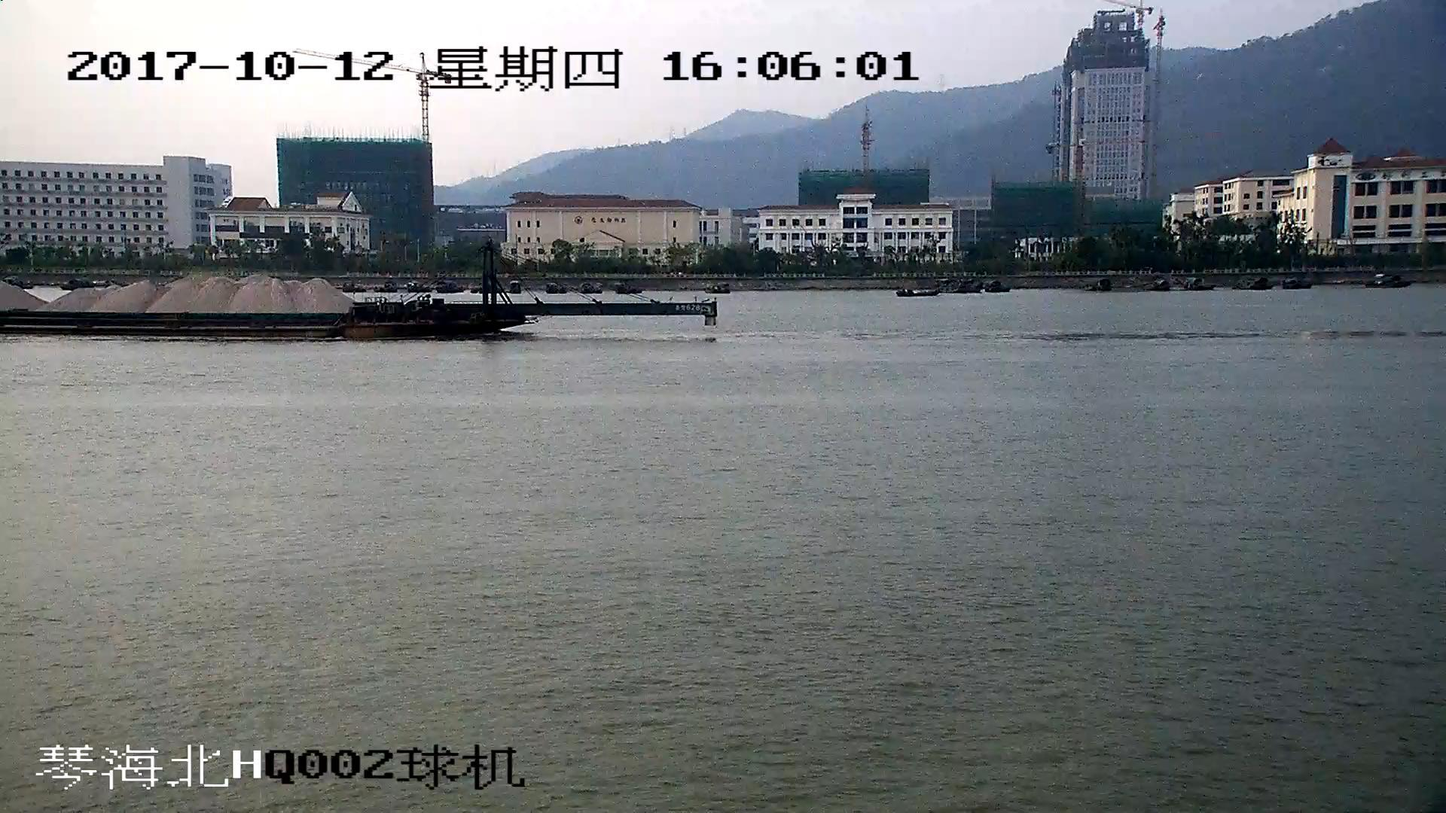ore carrier: (0, 240, 714, 340)
